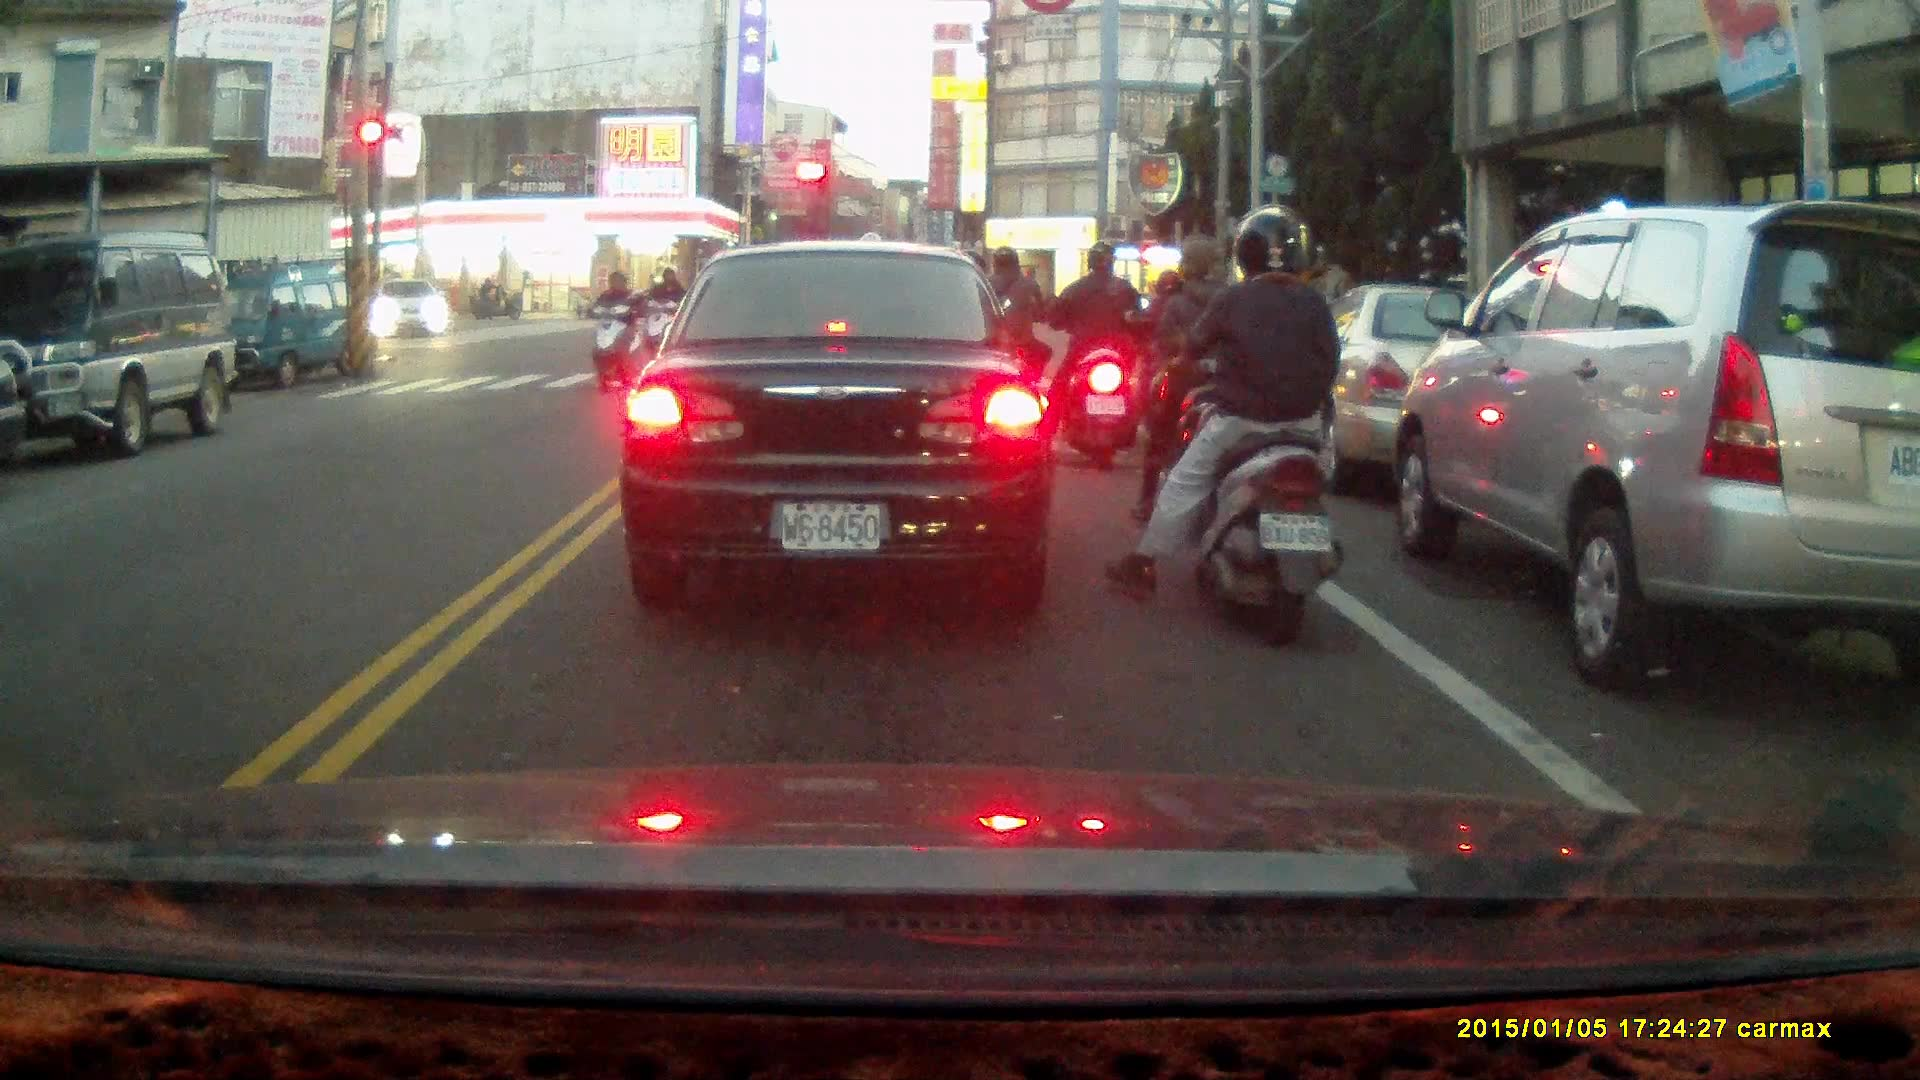pedestrian: (476, 276, 500, 320)
rider: (1107, 207, 1349, 651), (1132, 234, 1255, 541), (1048, 243, 1141, 469), (963, 245, 1049, 448), (1134, 269, 1204, 450), (588, 267, 646, 395), (639, 265, 696, 379)
vehicle: (1385, 195, 1920, 685), (617, 243, 1061, 606), (1266, 282, 1567, 495), (1, 234, 239, 458), (194, 255, 381, 395), (372, 277, 451, 343)
